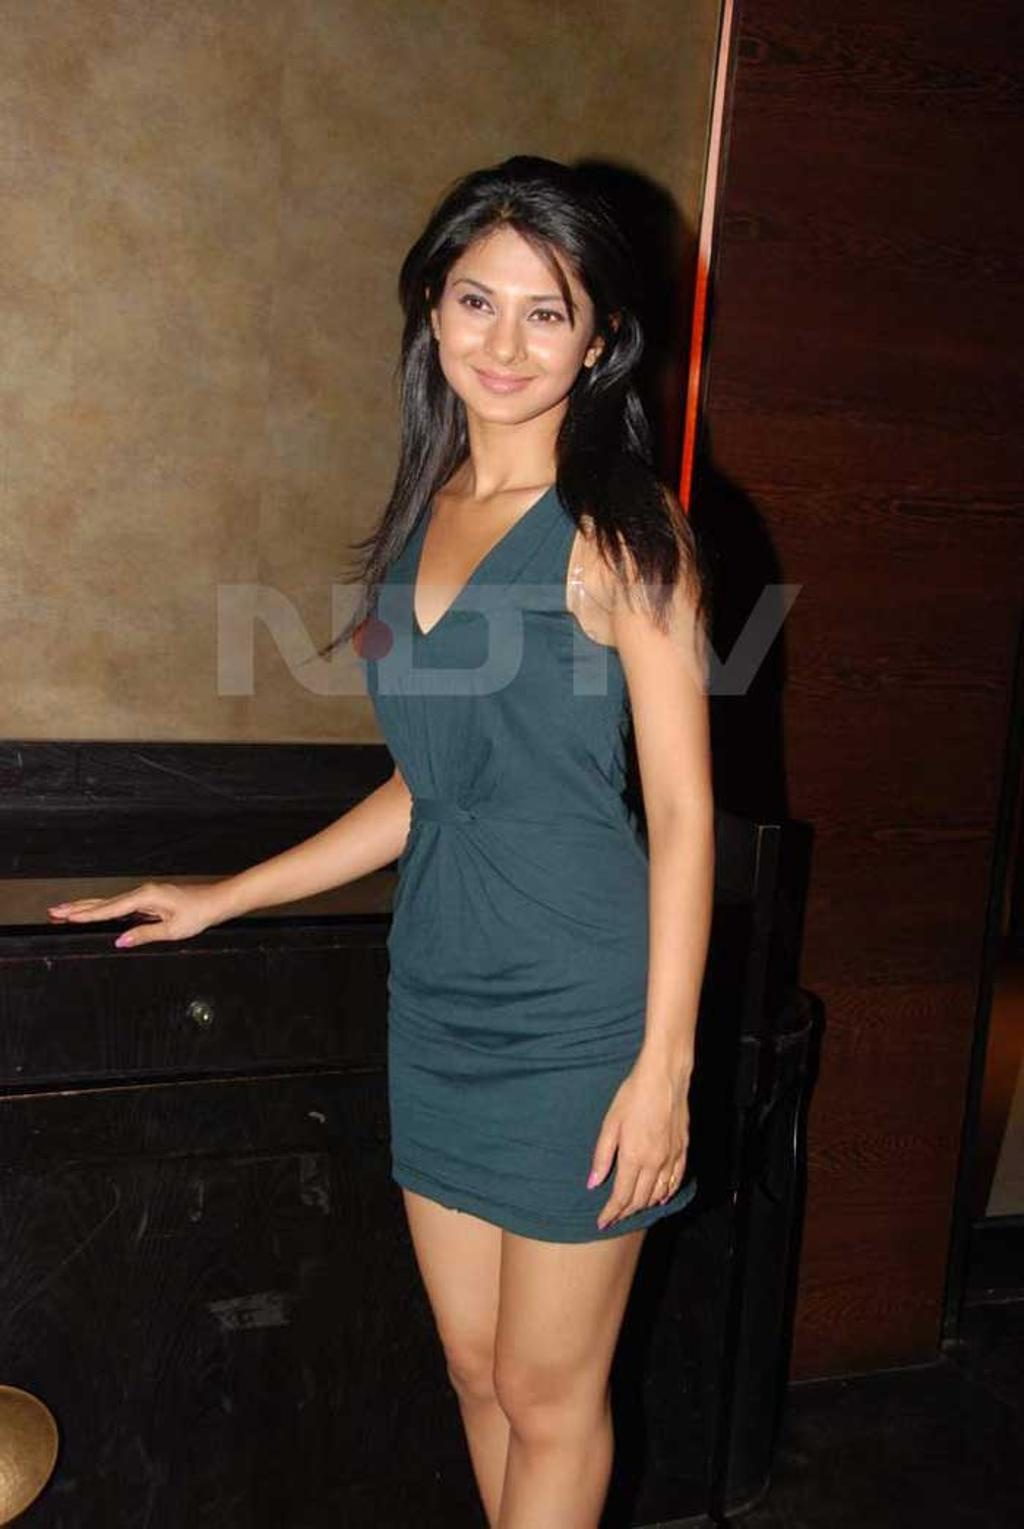face: (430, 221, 579, 418)
